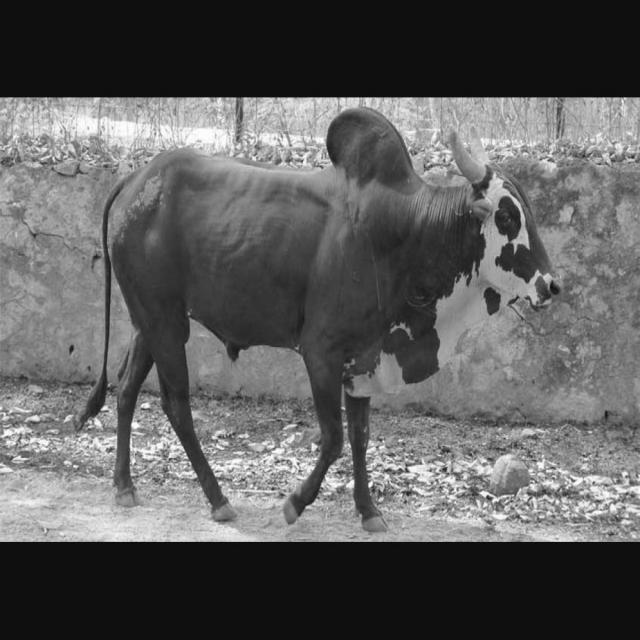Cow: (68, 105, 564, 532)
